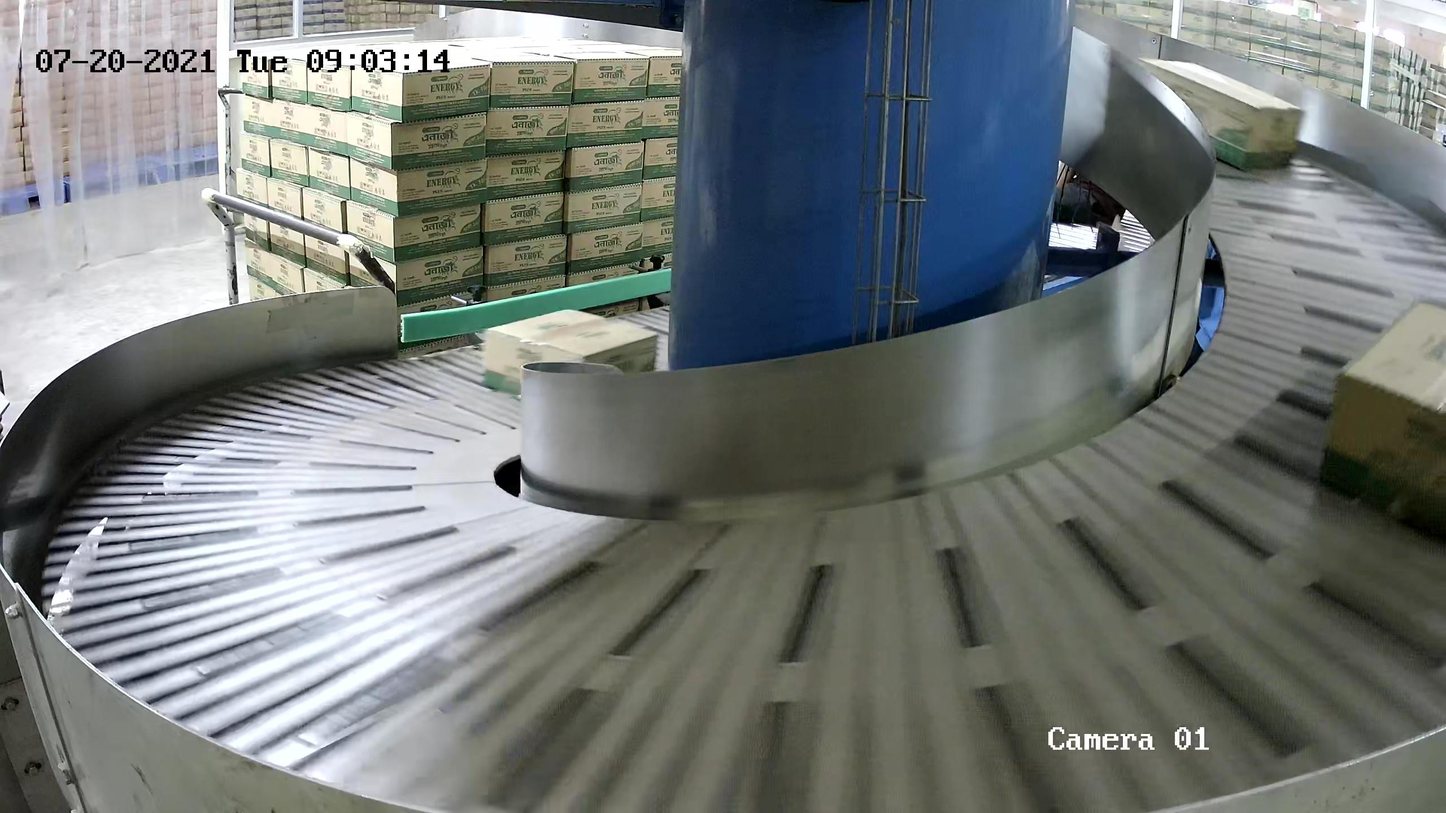Box: (1321, 298, 1446, 545), (1135, 56, 1305, 173), (482, 307, 660, 397)
